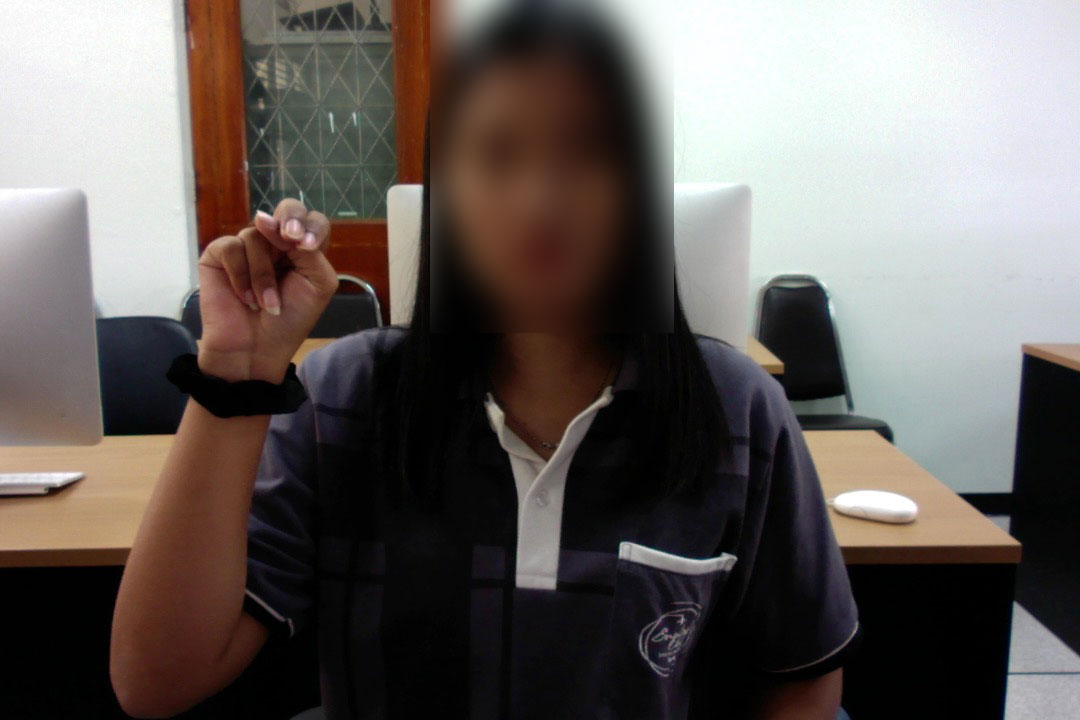nor: (182, 192, 347, 371)
